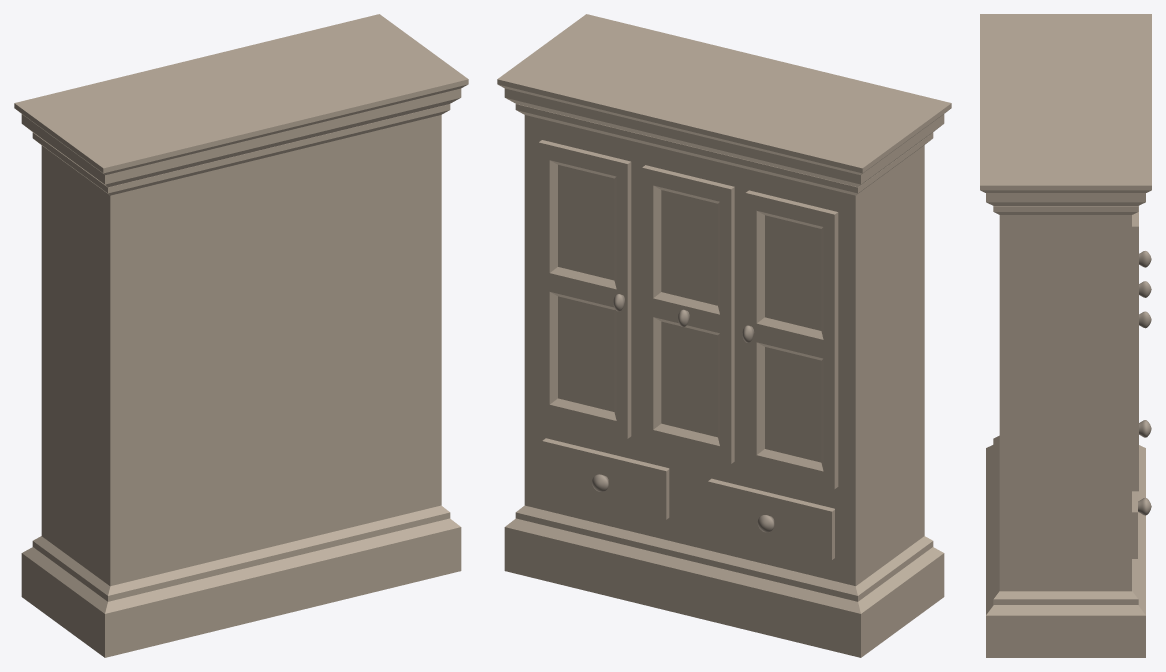
Rendered from Armoire2_3.fbx.
The picture shows the model from 3 angles, left to right: view 1: azimuth 30°, elevation 25°; view 2: azimuth 150°, elevation 25°; view 3: azimuth 270°, elevation 25°; orthographic projection. The views are drawn at different scales.
Parts seen in each view (by area): view 1: pCube2388, pCube2389, pCube2386, pCube2385, pCube2387, pCube2390; view 2: pCube2388, pCube2389, pCube2424, pCube2420, pCube2423, pCube2386, pCube2385, pCube2406, pCube2414, pCube2387, pCube2390; view 3: pCube2388, pCube2389, pCube2386, pCube2385, pCube2387, pCube2420, pCube2390, pCube2406.
Part boxes in pixels (<box>): pCube2388: <box>41,115,441,586</box>; pCube2389: <box>14,14,468,174</box>; pCube2386: <box>21,518,461,657</box>; pCube2385: <box>32,505,450,601</box>; pCube2387: <box>21,88,461,187</box>; pCube2390: <box>32,104,450,195</box>; pCube2388: <box>524,115,924,586</box>; pCube2389: <box>497,14,951,174</box>; pCube2424: <box>745,190,838,489</box>; pCube2420: <box>538,140,631,438</box>; pCube2423: <box>642,165,734,463</box>; pCube2386: <box>504,518,944,657</box>; pCube2385: <box>515,505,933,601</box>; pCube2406: <box>542,438,669,519</box>; pCube2414: <box>708,478,834,559</box>; pCube2387: <box>504,88,944,187</box>; pCube2390: <box>515,104,933,195</box>; pCube2388: <box>999,215,1131,591</box>; pCube2389: <box>980,14,1151,192</box>; pCube2386: <box>986,445,1145,657</box>; pCube2385: <box>993,435,1138,604</box>; pCube2387: <box>986,193,1145,205</box>; pCube2420: <box>1132,206,1138,491</box>; pCube2390: <box>993,206,1138,214</box>; pCube2406: <box>1132,491,1137,558</box>.
Bounding box in the file's own units: 91.48 × 118 × 38.7.
